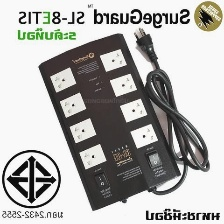three_eye_plug: (35, 29, 182, 213)
